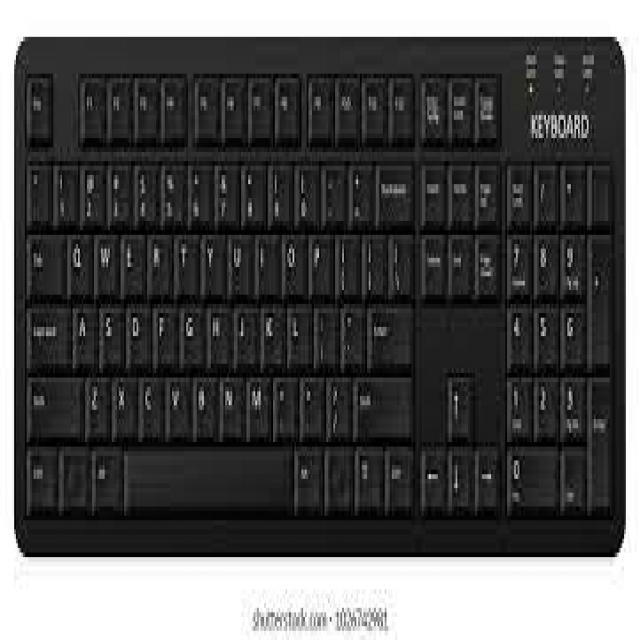others: (10, 13, 640, 580)
